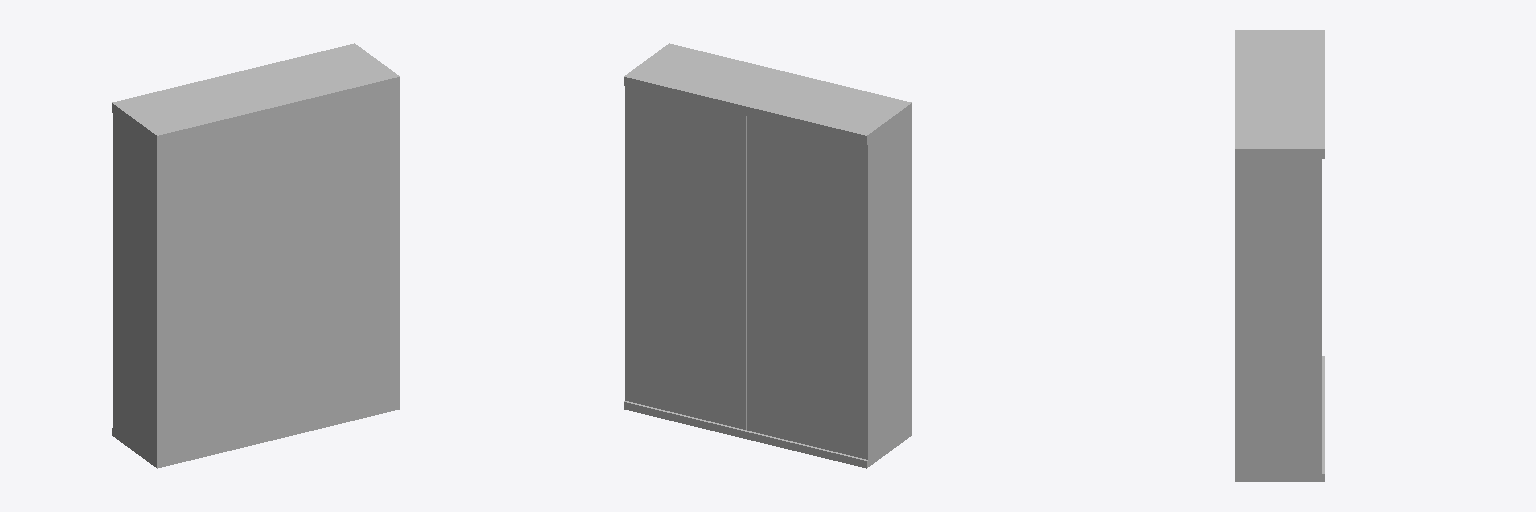
File: Closet.obj
3 views of the same model, side by side, from view 1: azimuth 30°, elevation 25°; view 2: azimuth 150°, elevation 25°; view 3: azimuth 270°, elevation 25° (orthographic).
Visible parts, largest first — view 1: Cube.004_Cube.001; view 2: Cube.004_Cube.001; view 3: Cube.004_Cube.001.
Part boxes in pixels (x1,y1,x2,y2): Cube.004_Cube.001: (112, 43, 399, 468); Cube.004_Cube.001: (624, 43, 911, 468); Cube.004_Cube.001: (1235, 30, 1324, 481).
Size of the model in its own units: 8.1 by 10.59 by 2.62.